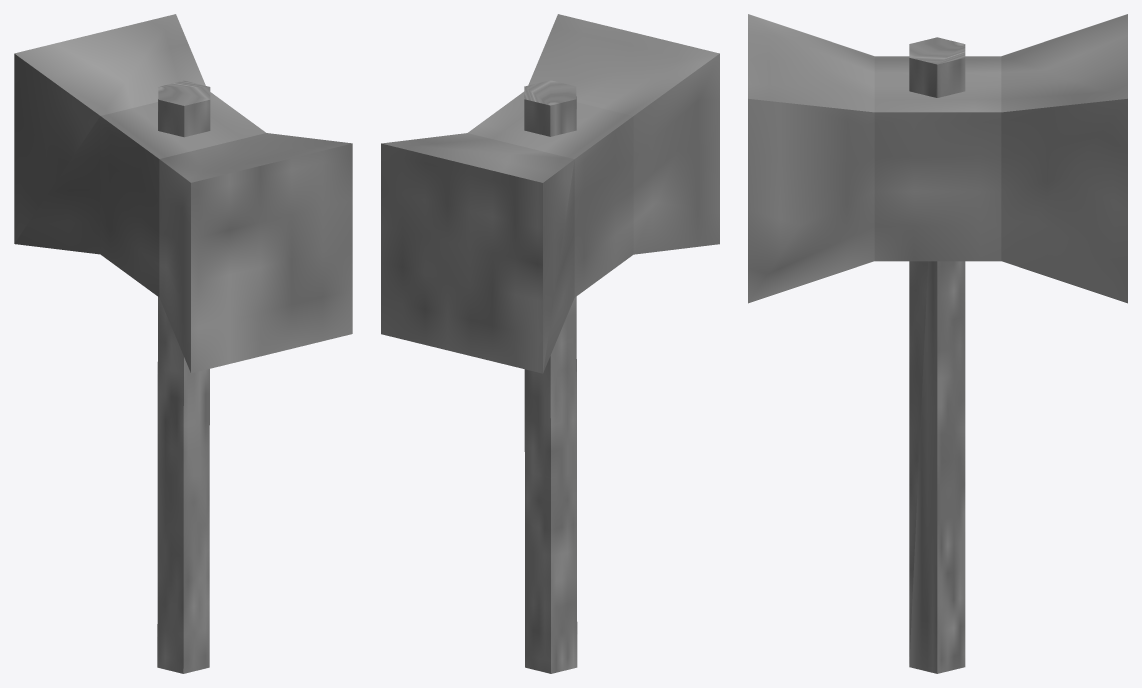
3 views of the same model, side by side, from view 1: azimuth 30°, elevation 25°; view 2: azimuth 150°, elevation 25°; view 3: azimuth 270°, elevation 25° (orthographic). The views are drawn at different scales.
Parts seen in each view (by area): view 1: Head, Handle; view 2: Head, Handle; view 3: Head, Handle.
Part boxes in pixels (left/top/right/bottom): Head: left=14, top=14, right=352, bottom=373; Handle: left=157, top=80, right=210, bottom=673; Head: left=381, top=14, right=719, bottom=373; Handle: left=524, top=80, right=577, bottom=673; Head: left=748, top=14, right=1127, bottom=303; Handle: left=909, top=37, right=965, bottom=673.
Bounding box in the file's own units: 0.2684 × 0.9 × 0.5079.
